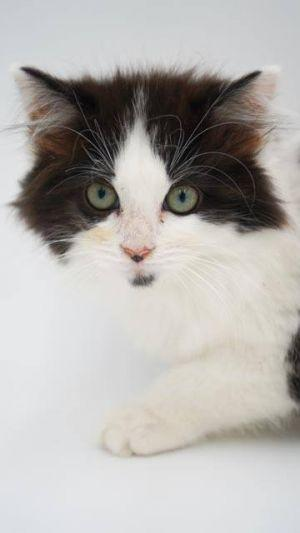ragdoll: (1, 47, 294, 315)
